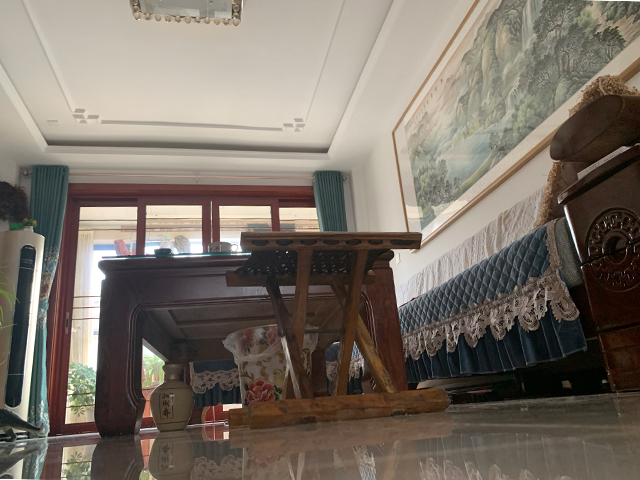curtain: (26, 164, 70, 438)
sofa: (391, 73, 640, 405)
stool: (225, 230, 454, 430)
table: (93, 249, 411, 439)
trashcan: (221, 322, 320, 408)
